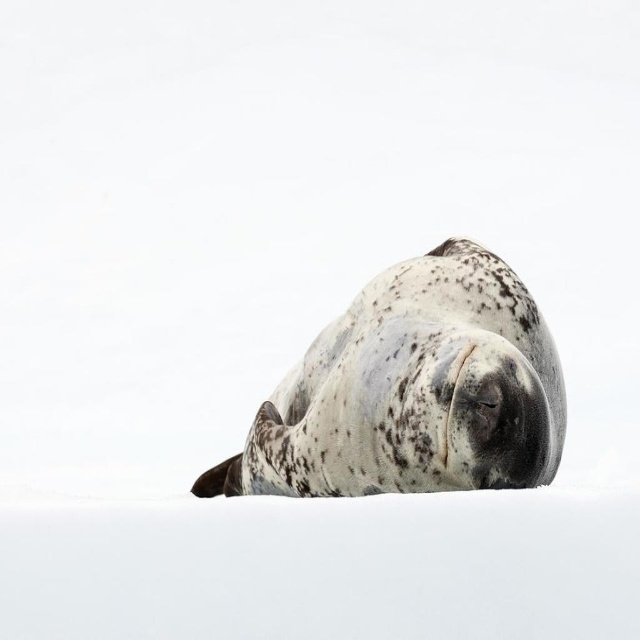Harbor seal: (191, 235, 569, 493)
